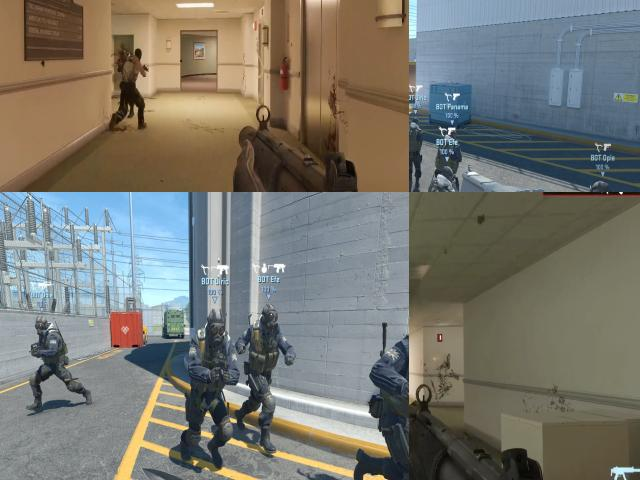CT: (184, 308, 236, 452), (243, 300, 285, 453), (378, 294, 409, 480), (32, 316, 68, 408), (409, 113, 424, 192), (425, 164, 459, 192), (438, 128, 459, 164)
CT-Head: (206, 310, 227, 341), (262, 302, 278, 331), (437, 167, 453, 187), (36, 316, 50, 336), (586, 181, 611, 192), (119, 48, 128, 65), (410, 117, 420, 128), (447, 129, 457, 139)
T: (121, 41, 147, 95)
T-Head: (132, 48, 143, 60)
